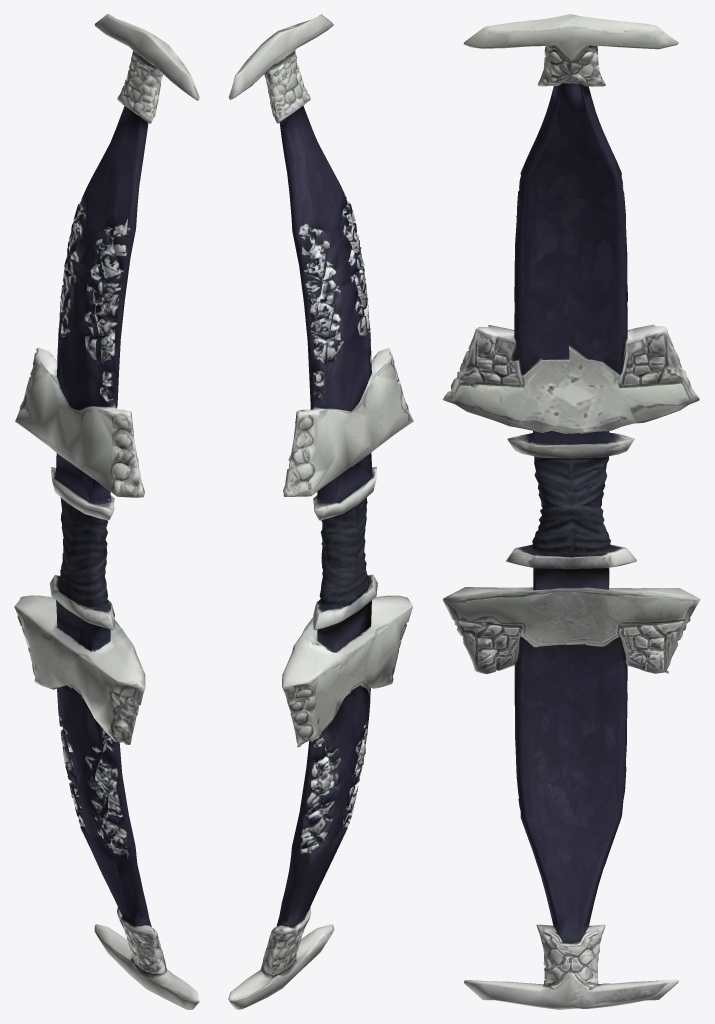
The model's file is prop_seiran_bow.fbx.
3 renders of one model, left to right at view 1: azimuth 30°, elevation 25°; view 2: azimuth 150°, elevation 25°; view 3: azimuth 270°, elevation 25°, orthographic. The views are drawn at different scales.
Parts seen in each view (by area): view 1: tripo_node_cf749978-2407-4f28-9872-0c1f9de0be00; view 2: tripo_node_cf749978-2407-4f28-9872-0c1f9de0be00; view 3: tripo_node_cf749978-2407-4f28-9872-0c1f9de0be00.
Part boxes in pixels (x1,y1,x2,y2): tripo_node_cf749978-2407-4f28-9872-0c1f9de0be00: (14,14,199,1009); tripo_node_cf749978-2407-4f28-9872-0c1f9de0be00: (228,14,413,1009); tripo_node_cf749978-2407-4f28-9872-0c1f9de0be00: (442,14,700,1009).
Bounding box in the file's own units: 0.1047 × 0.9816 × 0.231.
